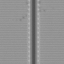dust: (43, 9, 46, 12), (18, 18, 21, 21)
